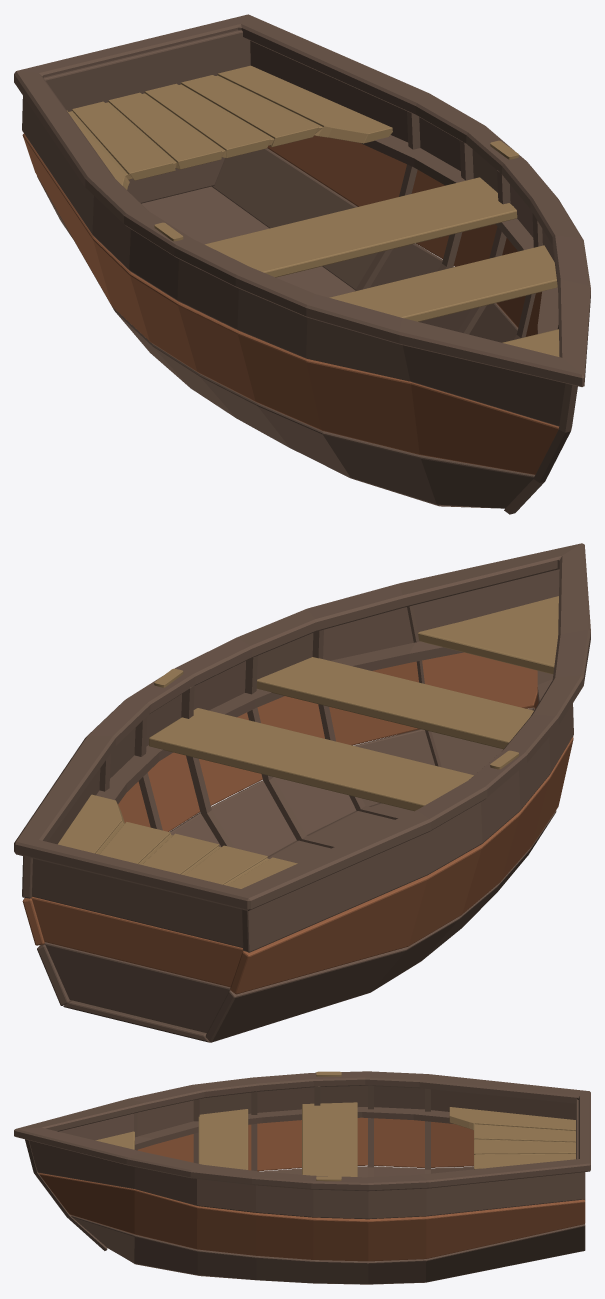
File: PolyRowBoat2.fbx
3 renders of one model, top to bottom at view 1: azimuth 30°, elevation 25°; view 2: azimuth 150°, elevation 25°; view 3: azimuth 270°, elevation 25°, orthographic. The views are drawn at different scales.
Parts seen in each view (by area): view 1: BoatMiddle, BoatTop, BoatMidHigh, BoatMidLow, Cube.003, Cube, Cube.001, BoatRearTop, BoatBottom, BoatRibs, BoatInterior, BoatRearBot (+2 smaller); view 2: BoatTop, BoatMiddle, BoatMidHigh, BoatMidLow, Cube, Cube.001, Cube.003, BoatRearMid, BoatRearBot, BoatRearTop, BoatRibs, Cube.002 (+2 smaller); view 3: BoatMiddle, BoatMidHigh, BoatTop, BoatMidLow, Cube.003, Cube, Cube.001, BoatInterior, BoatRibs, Plane, Cube.002, Cube.004.
Part boxes in pixels (box(x1,y1,x2,y2)): BoatMiddle: box(22, 133, 558, 474); BoatTop: box(14, 14, 590, 386); BoatMidHigh: box(22, 41, 565, 426); BoatMidLow: box(37, 148, 534, 508); Cube.003: box(67, 65, 392, 189); Cube: box(204, 177, 517, 277); Cube.001: box(329, 245, 557, 321); BoatRearTop: box(44, 30, 250, 111); BoatBottom: box(141, 186, 493, 508); BoatRibs: box(355, 111, 558, 339); BoatInterior: box(361, 135, 558, 333); BoatRearBot: box(127, 157, 225, 203); BoatTop: box(14, 543, 590, 910); BoatMiddle: box(22, 652, 573, 994); BoatMidHigh: box(22, 569, 573, 952); BoatMidLow: box(37, 707, 556, 1042); Cube: box(149, 708, 473, 811); Cube.001: box(256, 657, 533, 749); Cube.003: box(58, 794, 297, 888); BoatRearMid: box(31, 896, 243, 987); BoatRearBot: box(44, 942, 230, 1032); BoatRearTop: box(32, 858, 242, 947); BoatRibs: box(99, 605, 441, 848); Cube.002: box(418, 596, 558, 674); BoatMiddle: box(39, 1117, 585, 1261); BoatMidHigh: box(29, 1085, 585, 1219); BoatTop: box(14, 1071, 590, 1191); BoatMidLow: box(71, 1166, 585, 1284); Cube.003: box(449, 1107, 575, 1169); Cube: box(302, 1102, 357, 1176); Cube.001: box(198, 1109, 248, 1169); BoatInterior: box(134, 1107, 453, 1149); BoatRibs: box(134, 1085, 430, 1176); Plane: box(25, 1139, 107, 1250); Cube.002: box(95, 1131, 134, 1149); Cube.004: box(316, 1071, 341, 1181).
Size of the model in its own units: 302 by 155 by 651.
